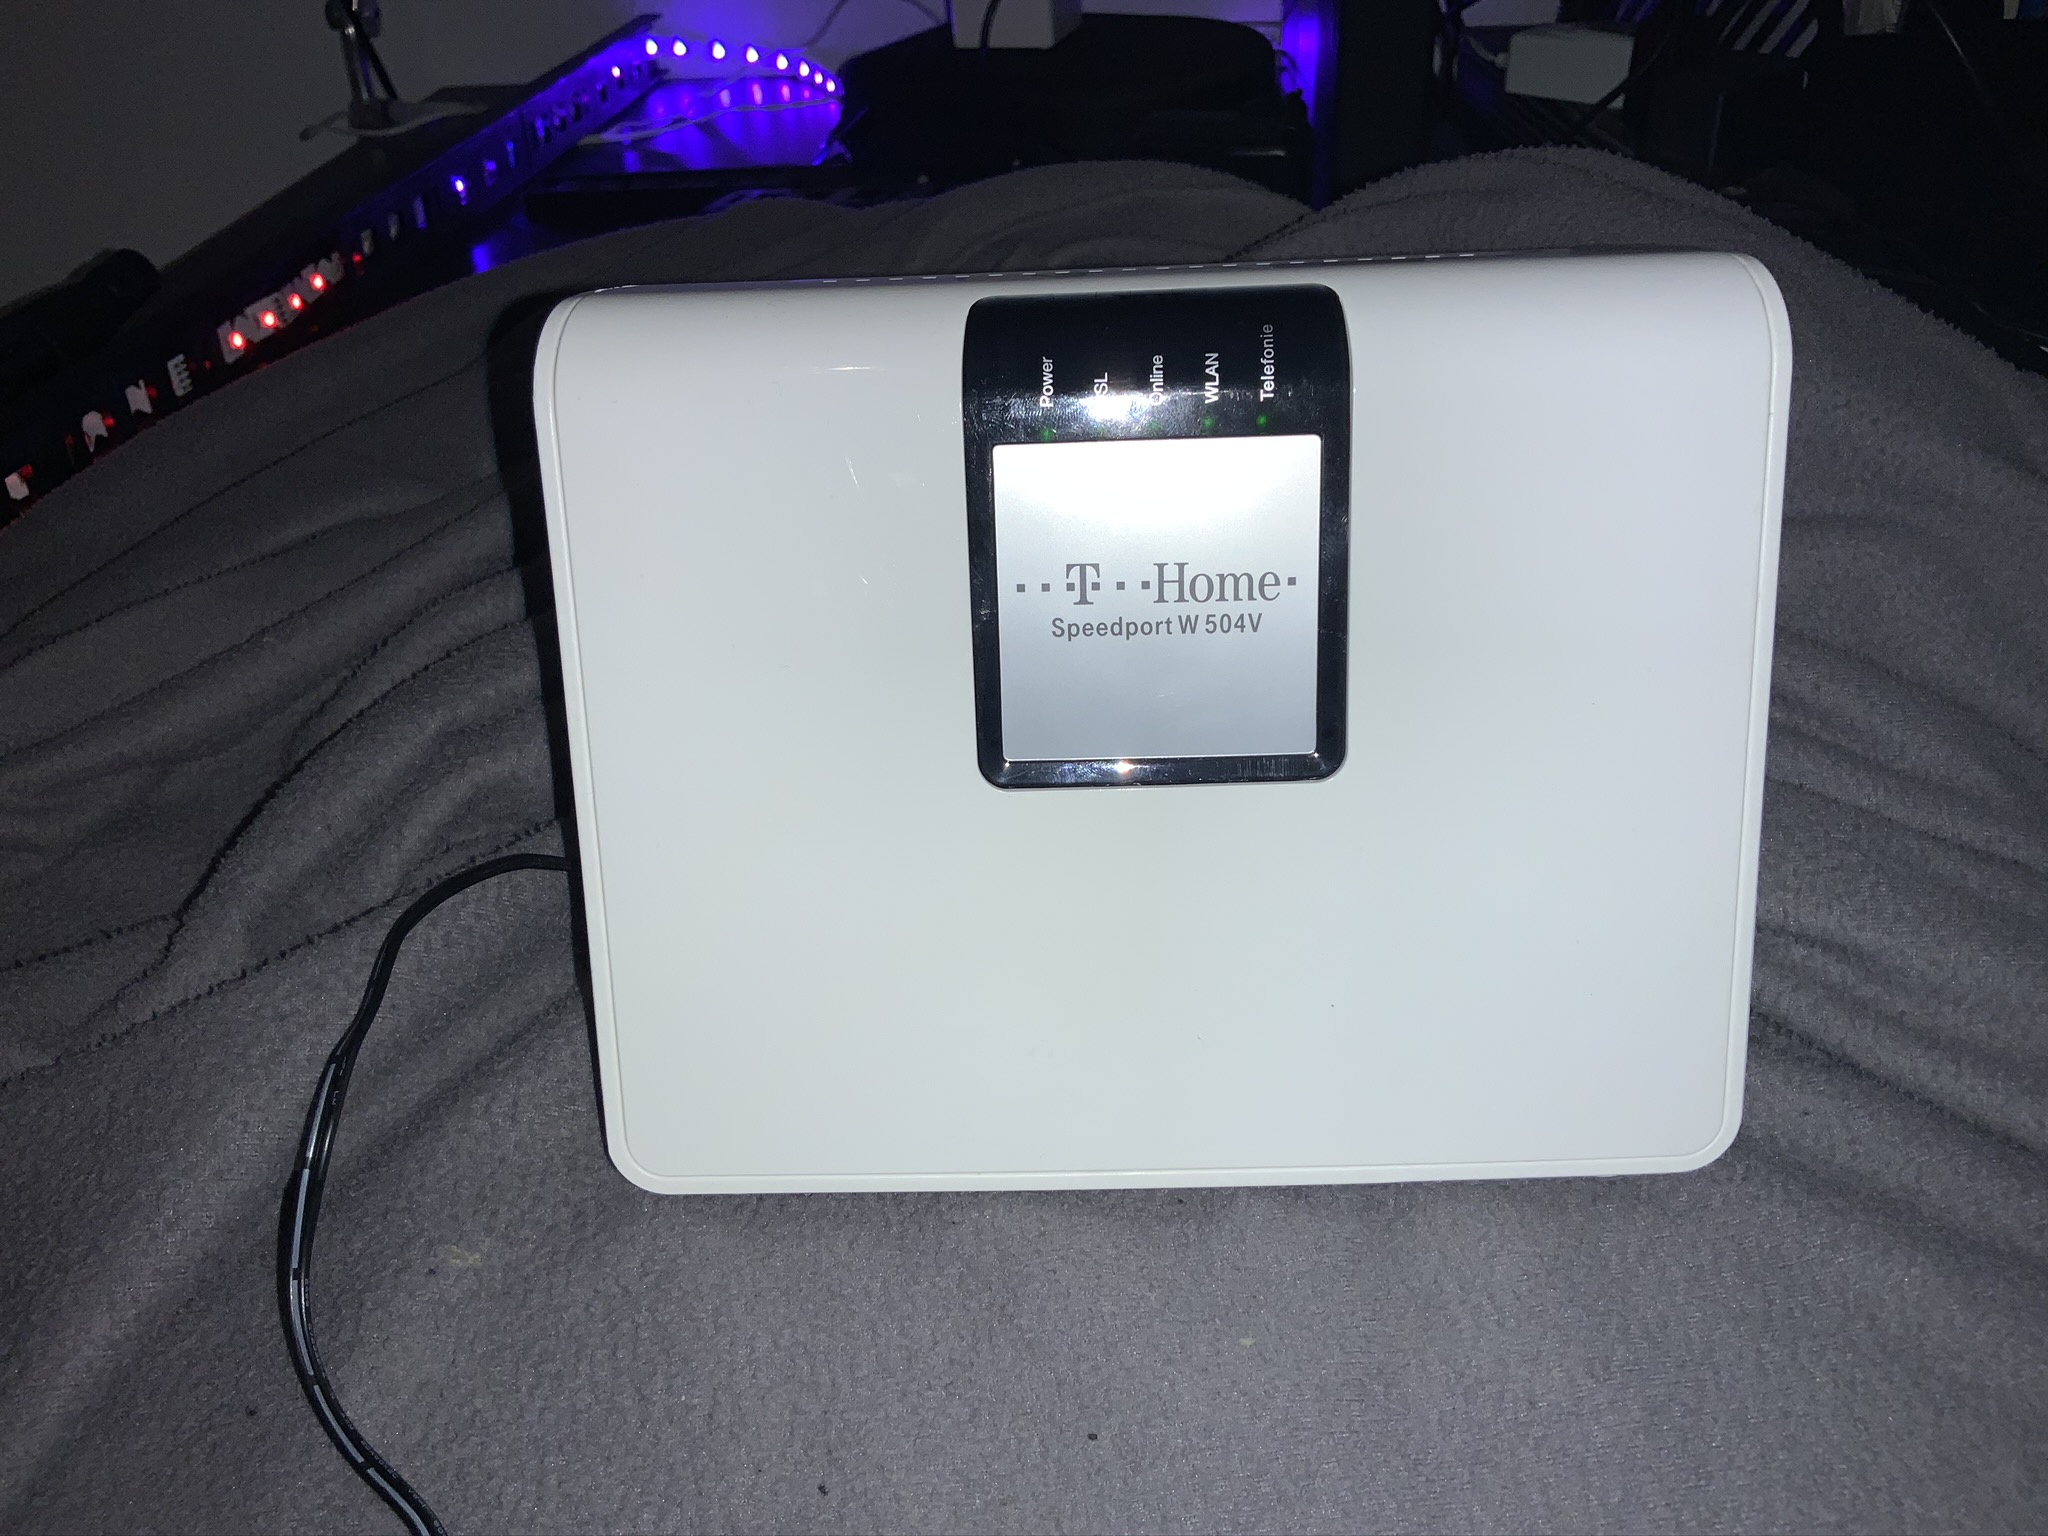Router2: (529, 239, 1806, 1213)
